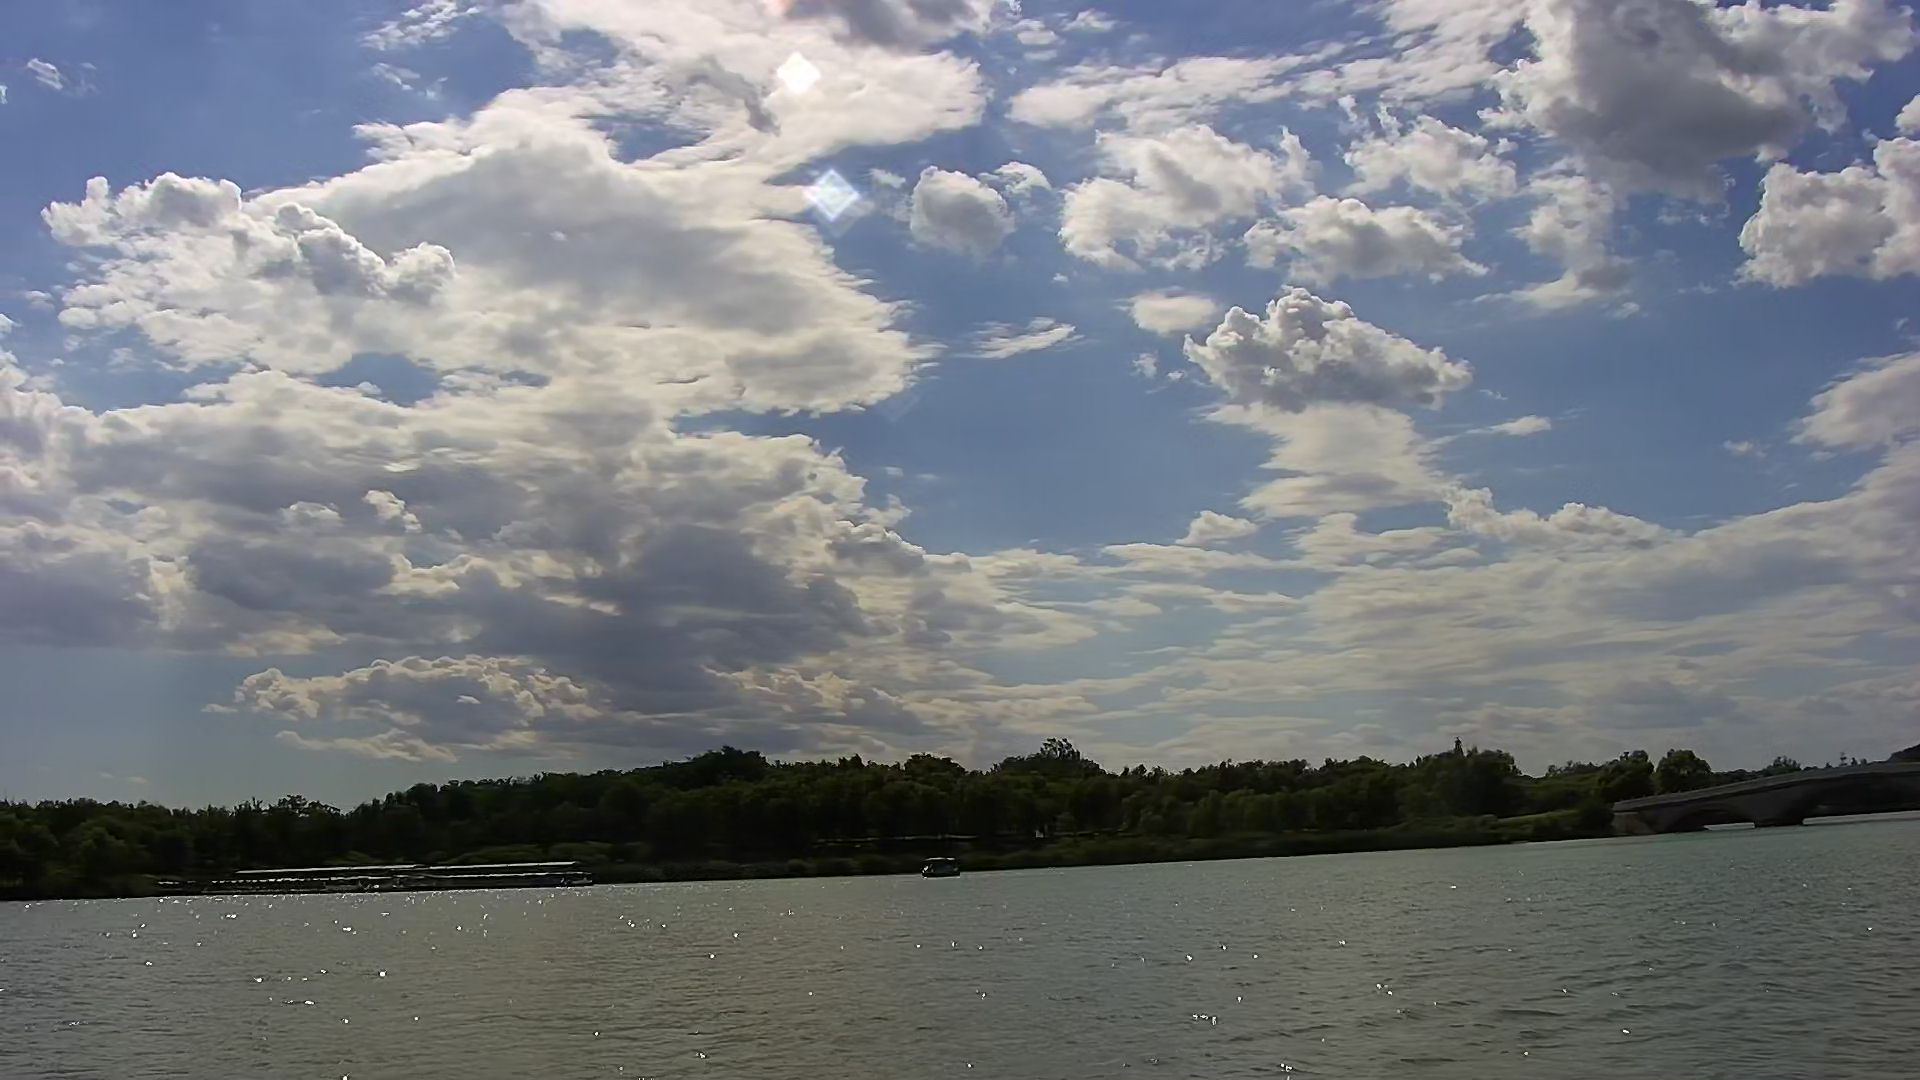boat: (916, 852, 968, 884)
bridge: (1633, 760, 1920, 837)
harbor: (232, 853, 585, 894)
